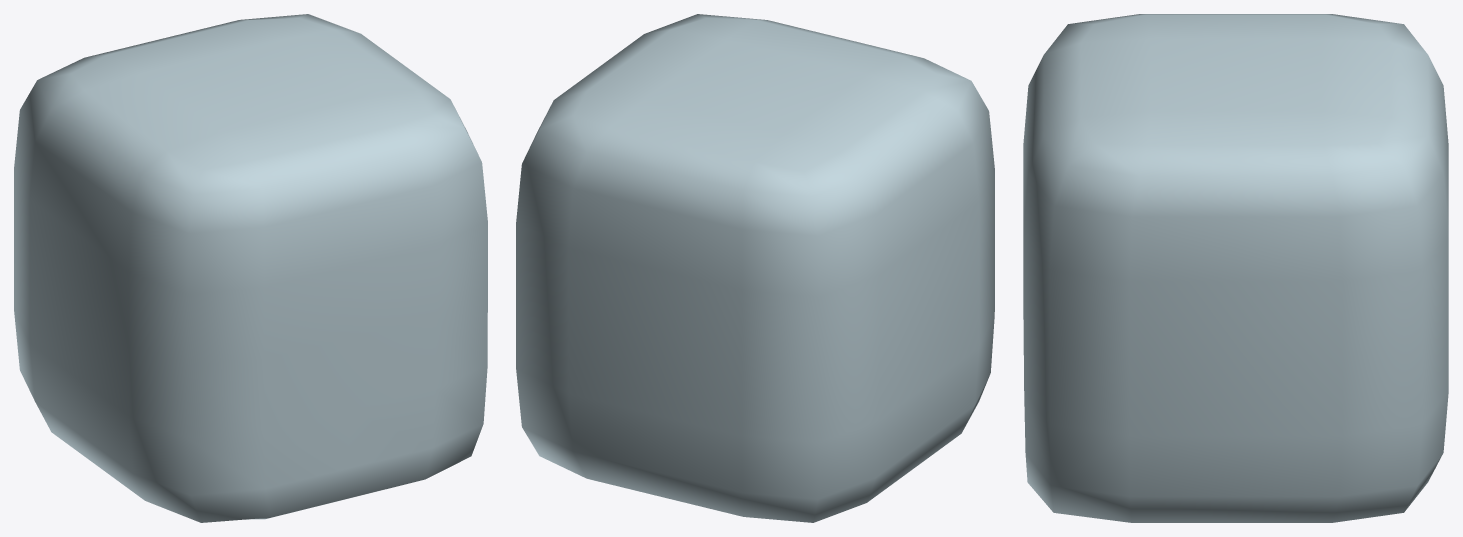
The model's file is ice cube.fbx.
The picture shows the model from 3 angles, left to right: view 1: azimuth 30°, elevation 25°; view 2: azimuth 150°, elevation 25°; view 3: azimuth 270°, elevation 25°; orthographic projection. The views are drawn at different scales.
Parts seen in each view (by area): view 1: HP_ice; view 2: HP_ice; view 3: HP_ice.
Part boxes in pixels (left/top/right/bottom): HP_ice: left=14, top=14, right=487, bottom=522; HP_ice: left=516, top=14, right=994, bottom=522; HP_ice: left=1023, top=14, right=1448, bottom=522.
Bounding box in the file's own units: 0.7664 × 0.7643 × 0.7664.
